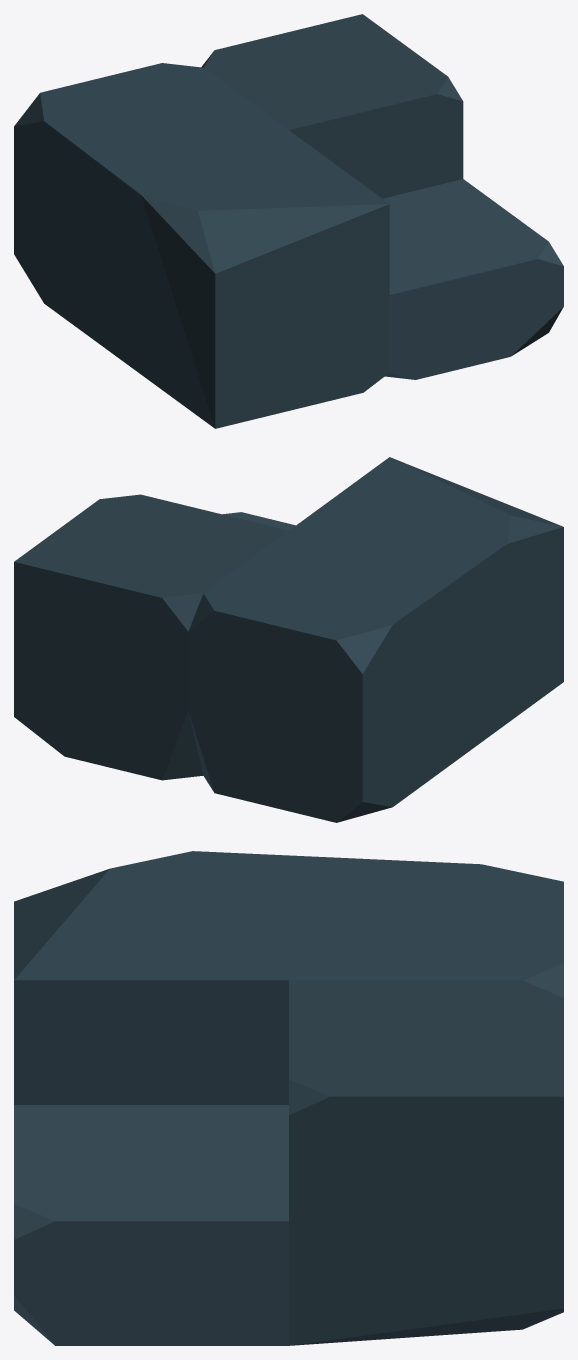
File: stair_long_straight_narrow_half_corner_conc.fbx
The picture shows the model from 3 angles, top to bottom: view 1: azimuth 30°, elevation 25°; view 2: azimuth 150°, elevation 25°; view 3: azimuth 270°, elevation 25°; orthographic projection. The views are drawn at different scales.
Parts seen in each view (by area): view 1: stair_long_straight_narrow_half_corner_conc; view 2: stair_long_straight_narrow_half_corner_conc; view 3: stair_long_straight_narrow_half_corner_conc.
Boxes of the visible parts, box(x1,y1,x2,y2) form: stair_long_straight_narrow_half_corner_conc: box(14, 14, 563, 428); stair_long_straight_narrow_half_corner_conc: box(14, 457, 563, 822); stair_long_straight_narrow_half_corner_conc: box(14, 851, 563, 1345).
Bounding box in the file's own units: 102 × 51.5 × 100.
